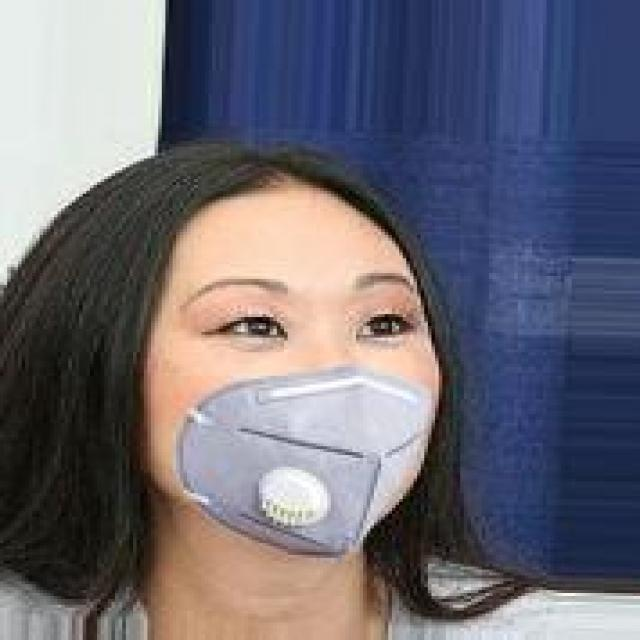mask: (61, 132, 493, 567)
